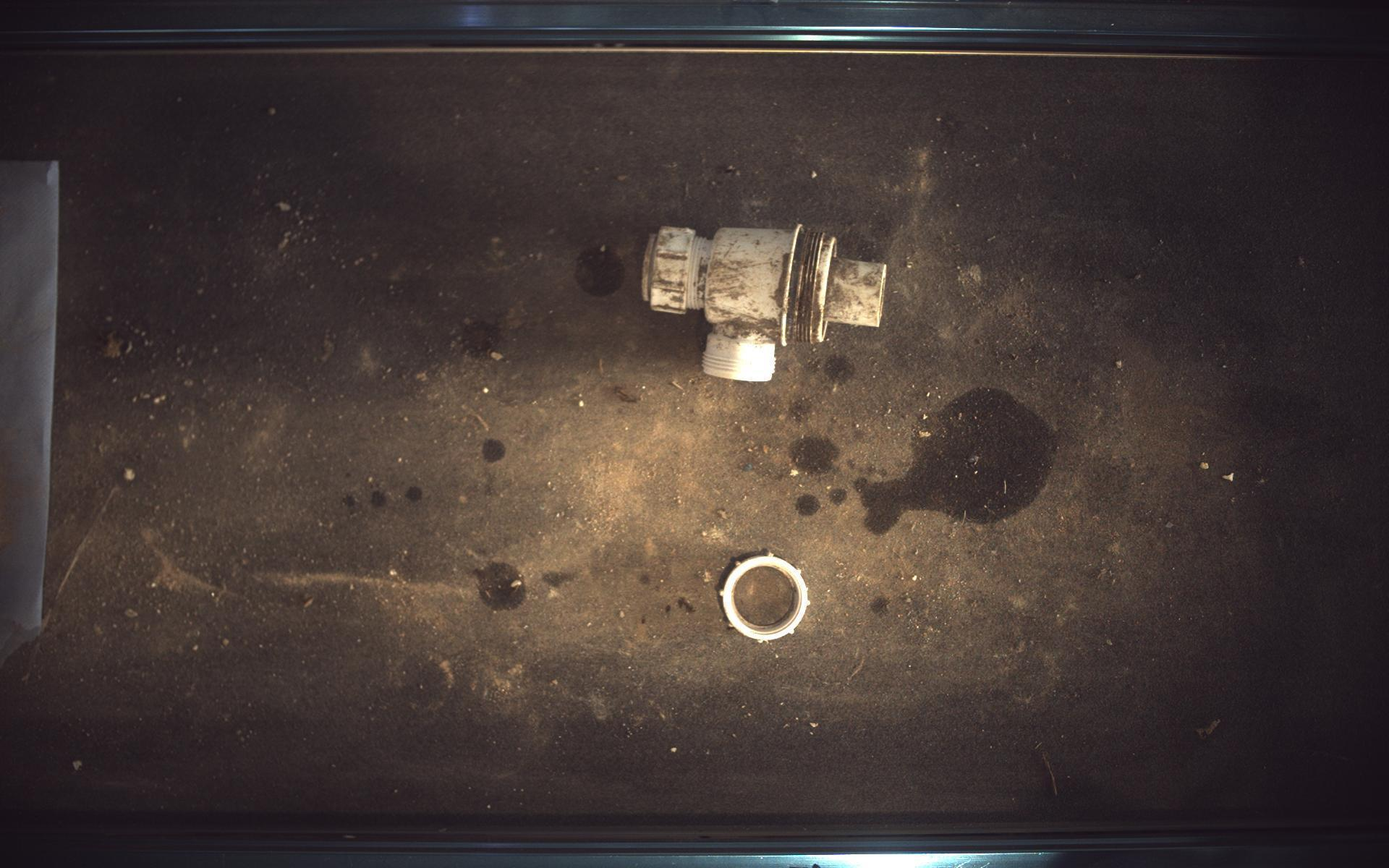plastic: (721, 553, 810, 642)
